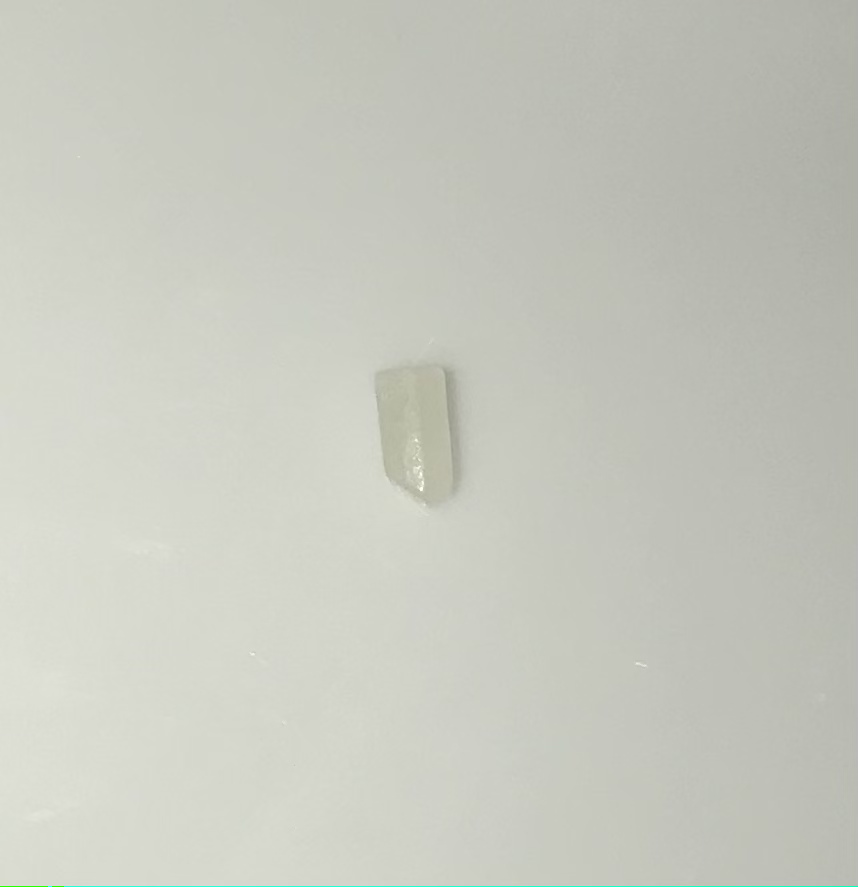Gao Tam: (363, 345, 466, 534)
